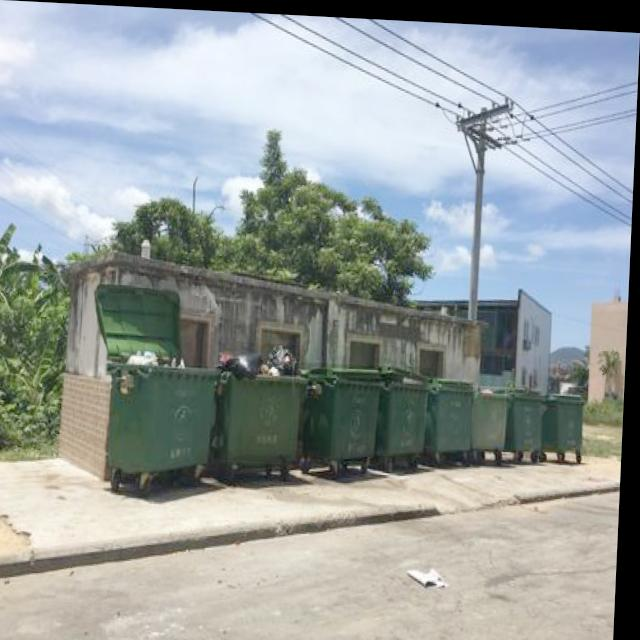garbage_bin: (301, 359, 386, 458), (381, 361, 434, 451), (427, 371, 478, 445), (508, 380, 549, 445), (547, 386, 589, 446), (474, 380, 513, 444)
overflow: (103, 347, 218, 472), (219, 339, 310, 461)
